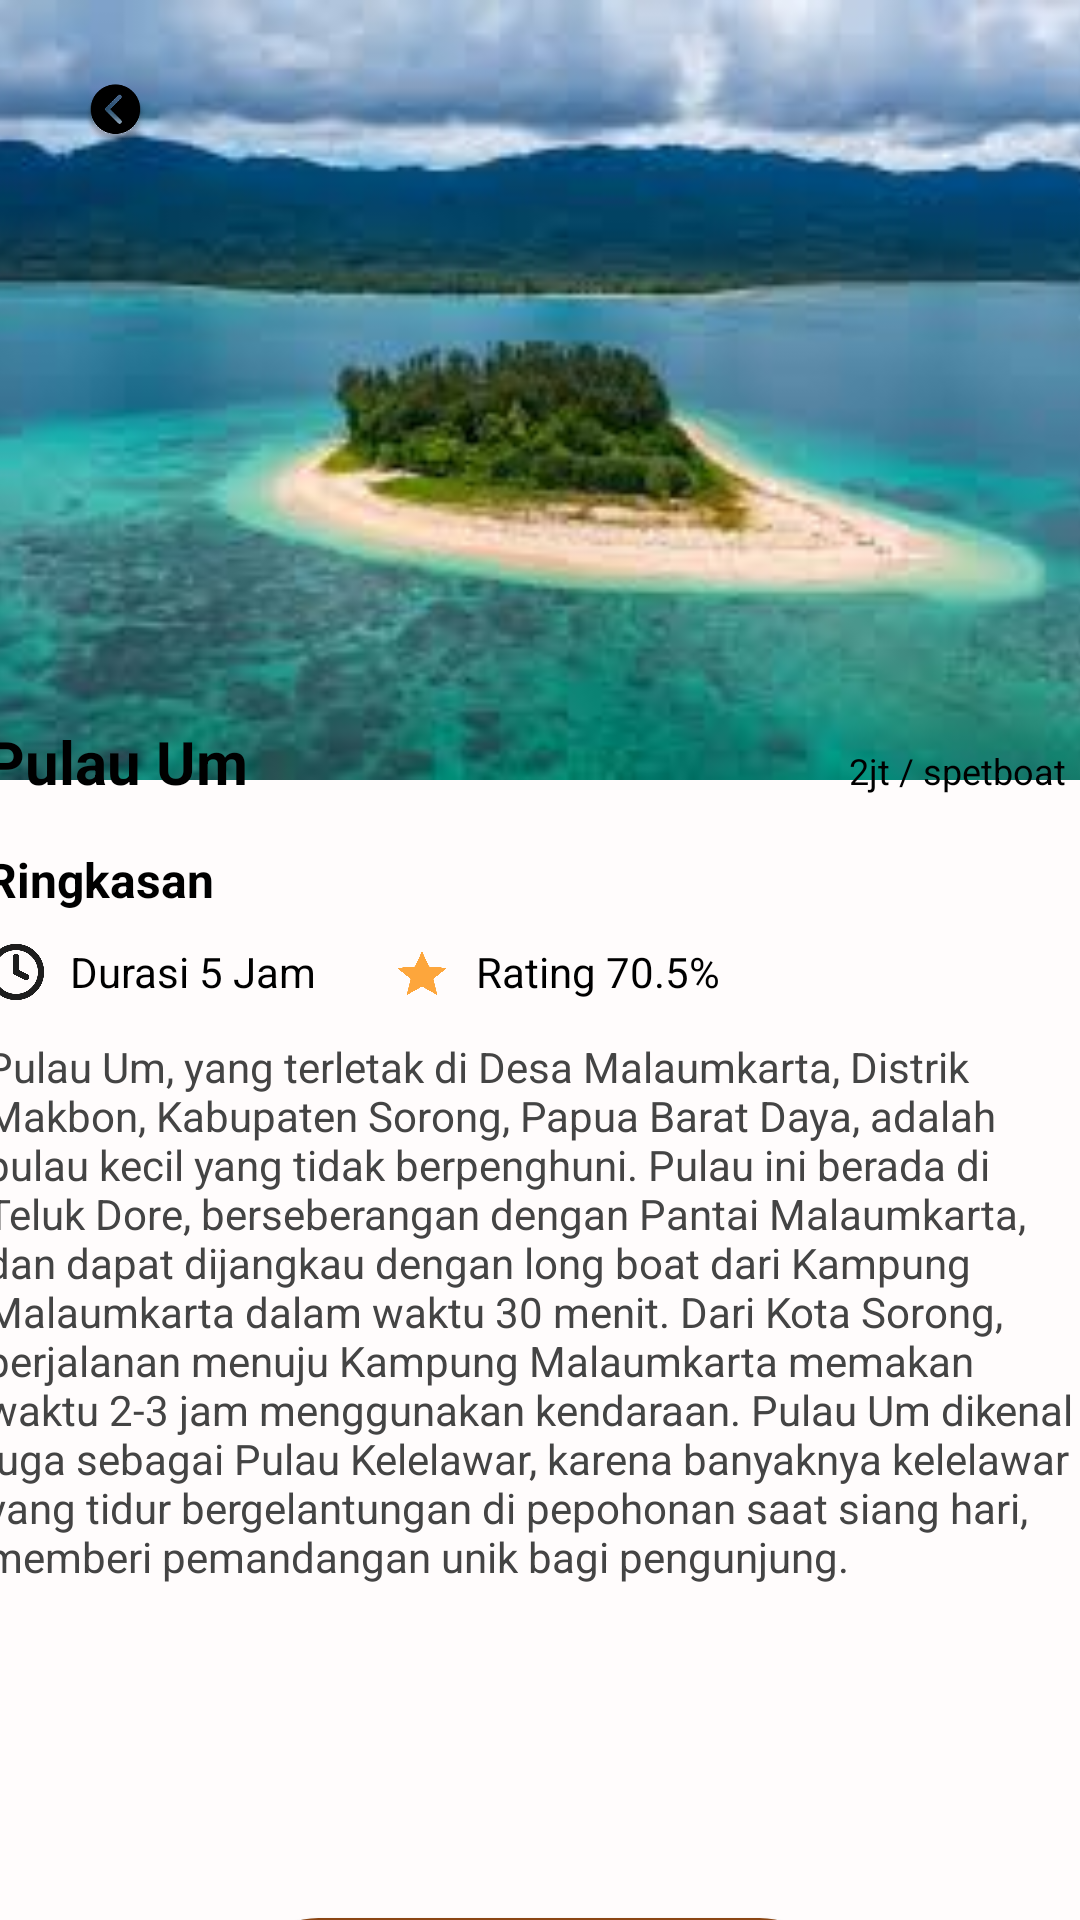

Point at icon controls on the screen. Image size 1080×1920, points as [x,y].
stars: [422,973]
